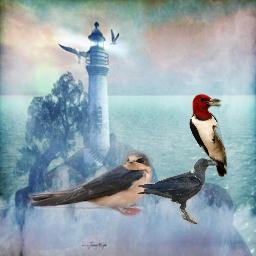Crow: (137, 158, 218, 224)
Swallow: (28, 149, 153, 217)
Woodpecker: (189, 94, 227, 177)
